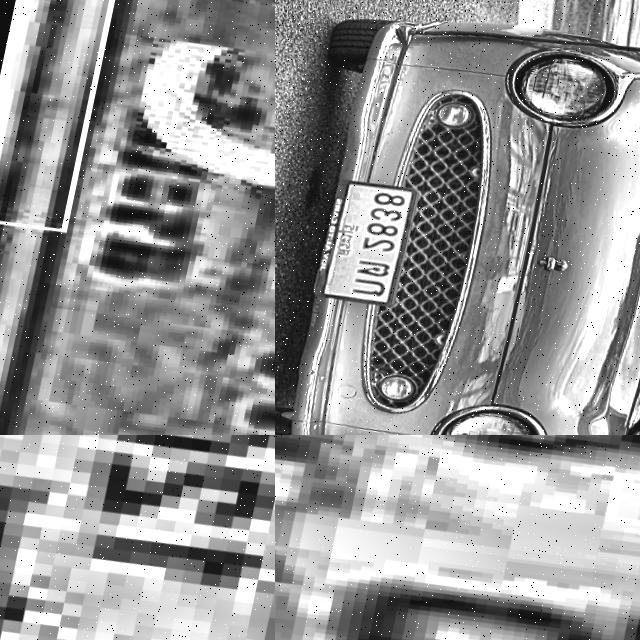license-plate: (0, 0, 275, 435), (275, 435, 640, 640), (0, 435, 275, 640), (308, 174, 418, 316)
